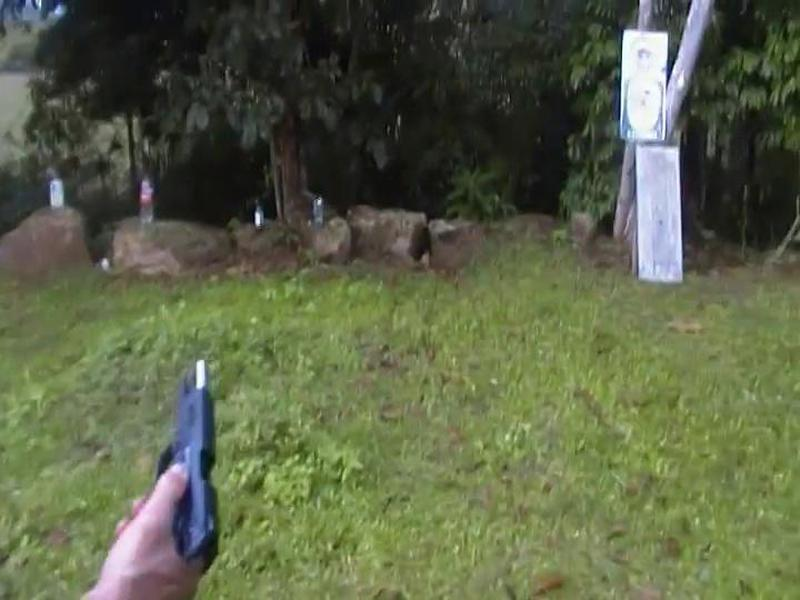Pistola: (139, 353, 240, 582)
